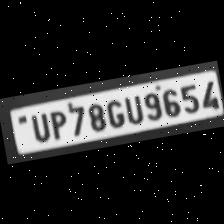4: (197, 77, 222, 111)
5: (176, 80, 200, 114)
6: (158, 86, 180, 118)
7: (62, 101, 88, 138)
8: (84, 99, 107, 134)
9: (140, 88, 163, 122)
G: (102, 94, 125, 129)
P: (45, 106, 69, 140)
U: (25, 110, 52, 144), (119, 91, 144, 126)
